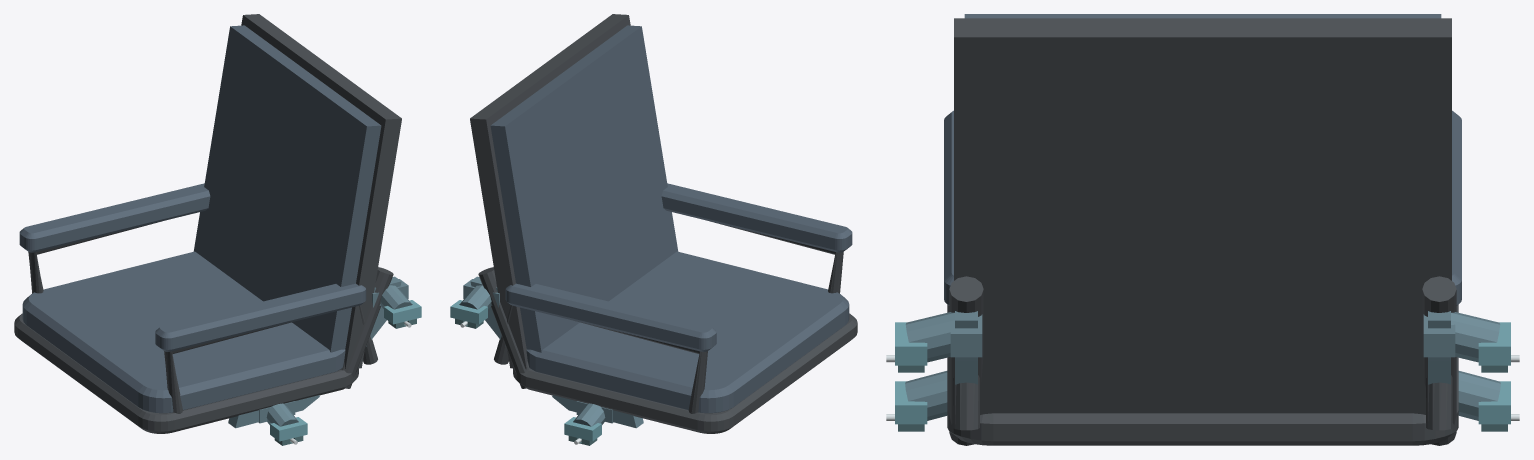
The picture shows the model from 3 angles, left to right: view 1: azimuth 30°, elevation 25°; view 2: azimuth 150°, elevation 25°; view 3: azimuth 270°, elevation 25°; orthographic projection. The views are drawn at different scales.
Visible parts, largest first — view 1: S09_Cabin, S09_Cabin_Mount_M, S09_Cabin_HighDocks; view 2: S09_Cabin, S09_Cabin_Mount_M, S09_Cabin_HighDocks; view 3: S09_Cabin, S09_Cabin_HighDocks, S09_Cabin_Mount_M.
Part boxes in pixels (x1=…): S09_Cabin: x1=14, y1=14, x2=401, y2=433; S09_Cabin_Mount_M: x1=258, y1=401, x2=307, y2=445; S09_Cabin_HighDocks: x1=372, y1=279, x2=421, y2=328; S09_Cabin: x1=470, y1=14, x2=857, y2=433; S09_Cabin_Mount_M: x1=564, y1=401, x2=613, y2=445; S09_Cabin_HighDocks: x1=450, y1=279, x2=499, y2=328; S09_Cabin: x1=944, y1=14, x2=1461, y2=445; S09_Cabin_HighDocks: x1=886, y1=312, x2=1519, y2=372; S09_Cabin_Mount_M: x1=886, y1=371, x2=1519, y2=431.
Size of the model in its own units: 0.5445 by 0.5753 by 0.664.
